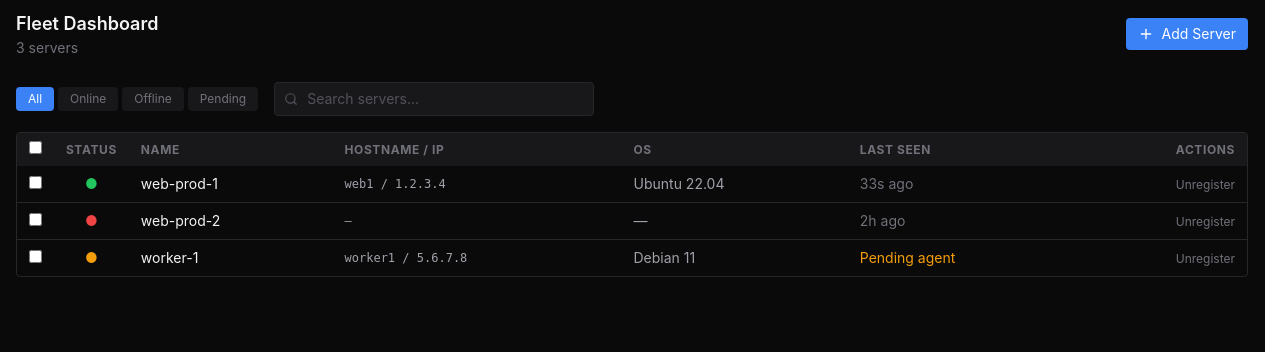
Scenario: DashboardPage › Clear button hides mass action bar
Click the checkbox next to "web-prod-1": click(36, 182) [29,176,42,189]
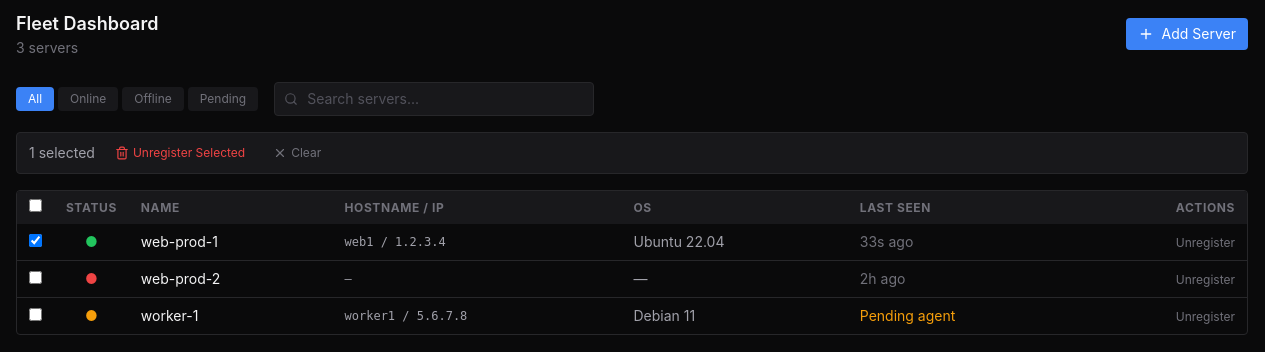
Expected: the text "1 selected" is shown, [29,143,95,163]
Click the button "Clear": click(297, 153) [265,141,329,165]
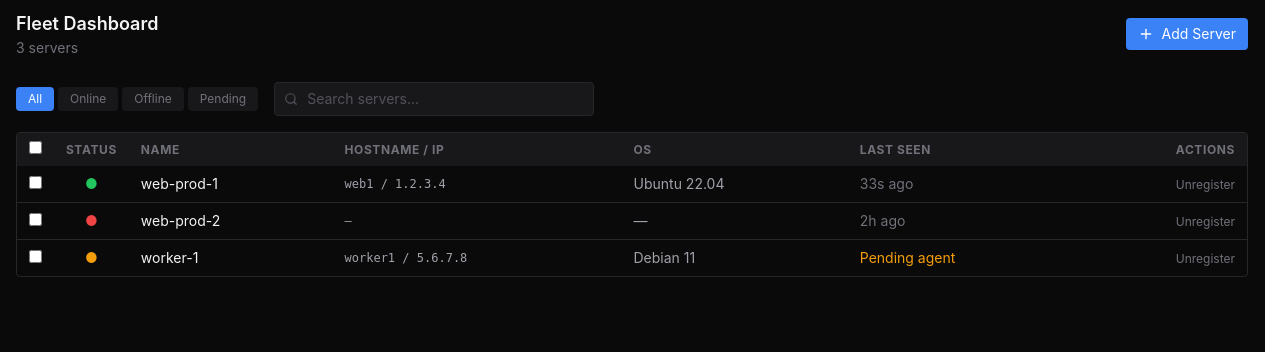
Expected: the text "1 selected" is gone
